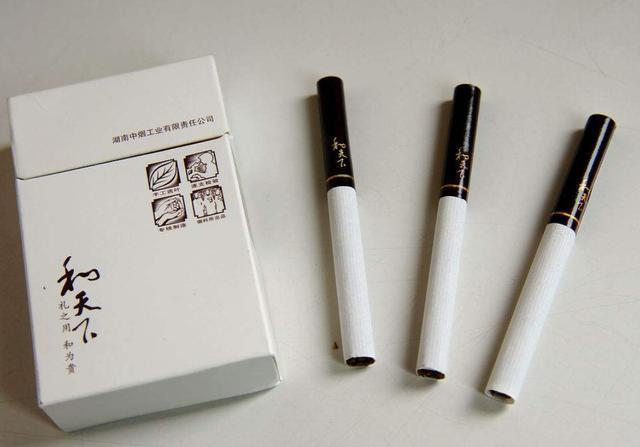Smoking: (486, 113, 616, 405), (415, 83, 483, 380), (316, 77, 378, 368)
